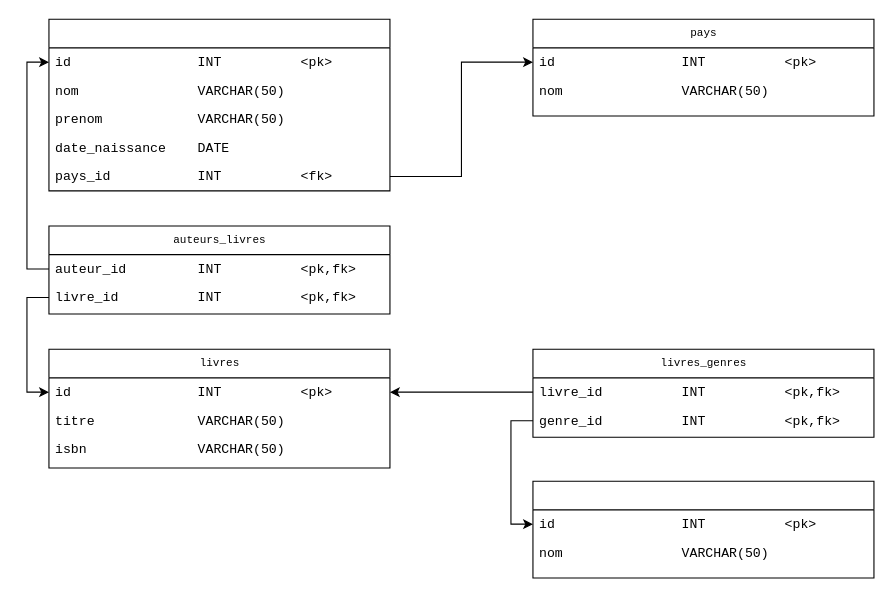
Image size: 893x597. Some labels were removed from this diagram. Each missing label, with the box of its shape:
auteurs: (48, 18, 390, 191)
genres: (532, 480, 874, 578)
